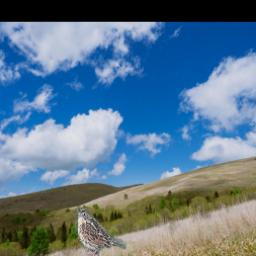Sparrow: (76, 206, 127, 256)
